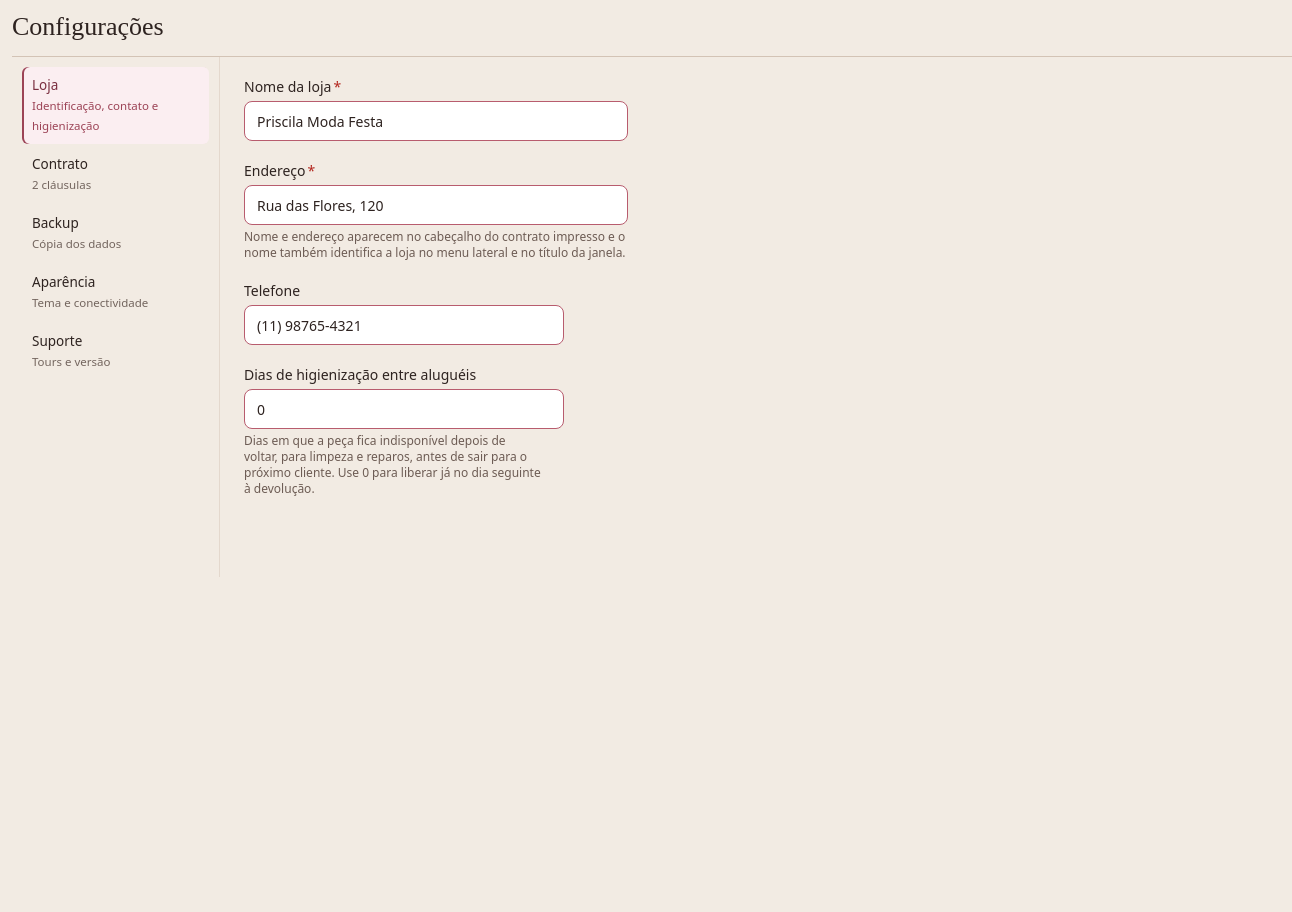
Scenario: identificador da instalação › mostra o identificador quando o app desktop o fornece
Click the button "Suporte Tours e versão" at (116, 352), box [22,323,209,380]
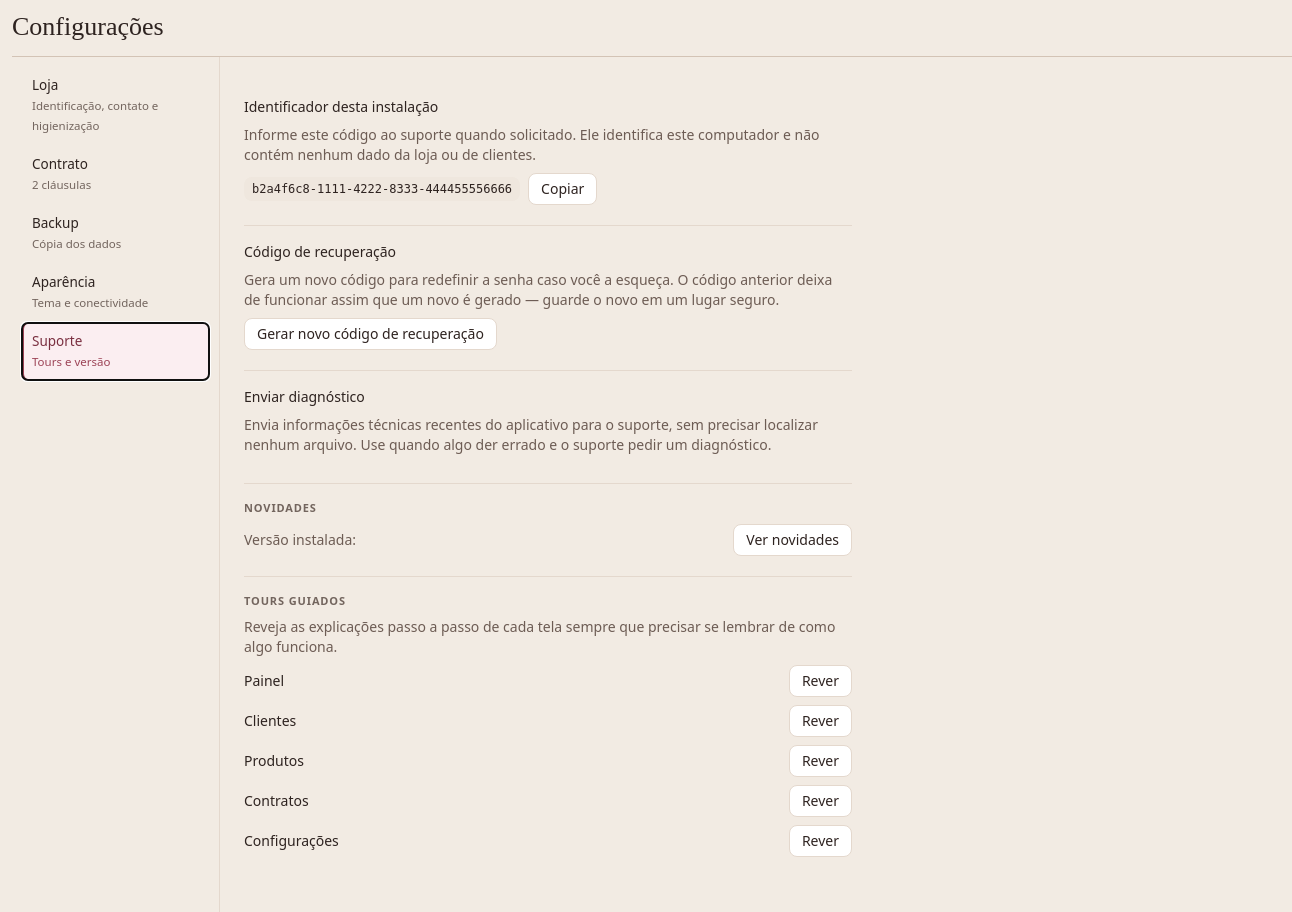
Now the text "b2a4f6c8-1111-4222-8333-444455556666" is shown, box [244,177,520,201]
Now the text "Identificador desta instalação" is shown, box [244,97,438,116]
